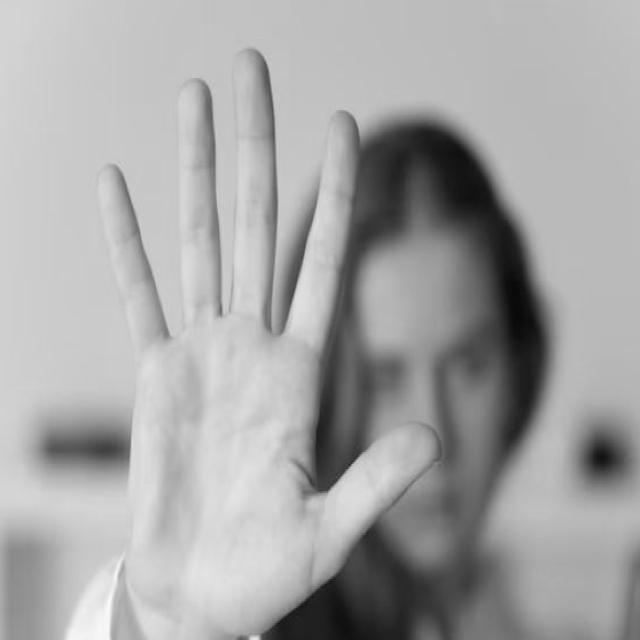stop: (93, 37, 446, 640)
